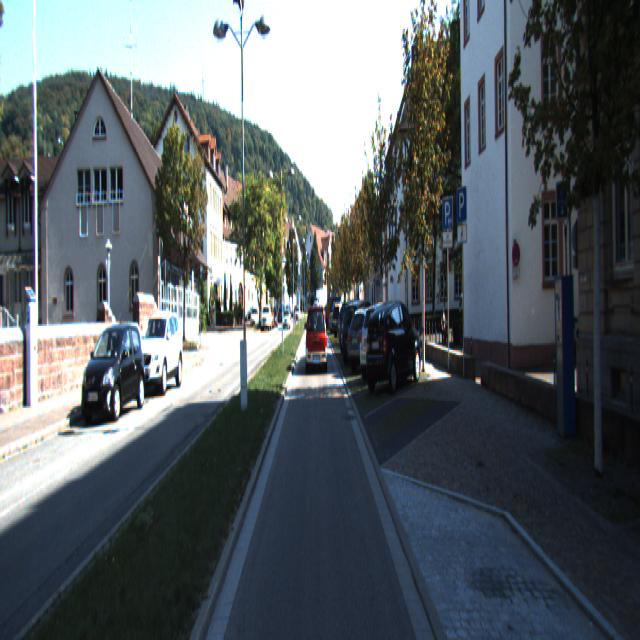Car: (80, 324, 148, 424), (364, 298, 423, 393), (358, 302, 415, 384), (132, 312, 184, 398), (344, 306, 396, 373), (340, 301, 384, 368), (306, 305, 328, 374), (326, 297, 346, 328)
